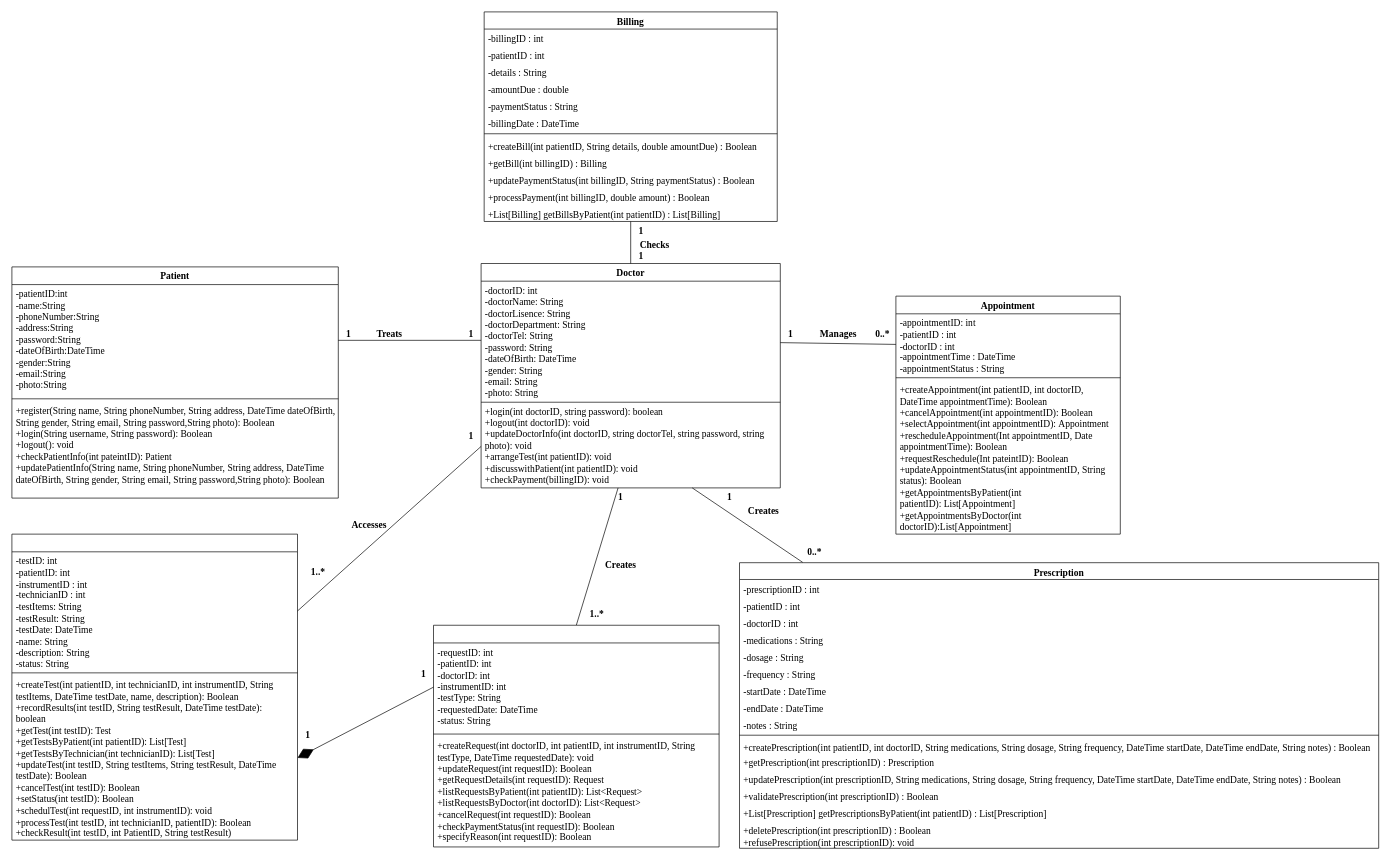
This 1391x862 diagram has some shape labels left out. Each missing label, with the box of its shape:
Lab Request: (433, 625, 719, 847)
Lab Test: (11, 533, 298, 840)
